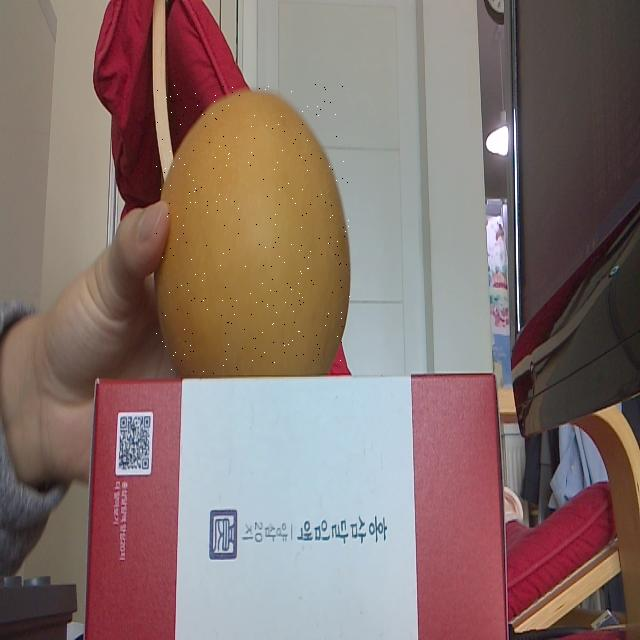pear: (157, 84, 350, 375)
